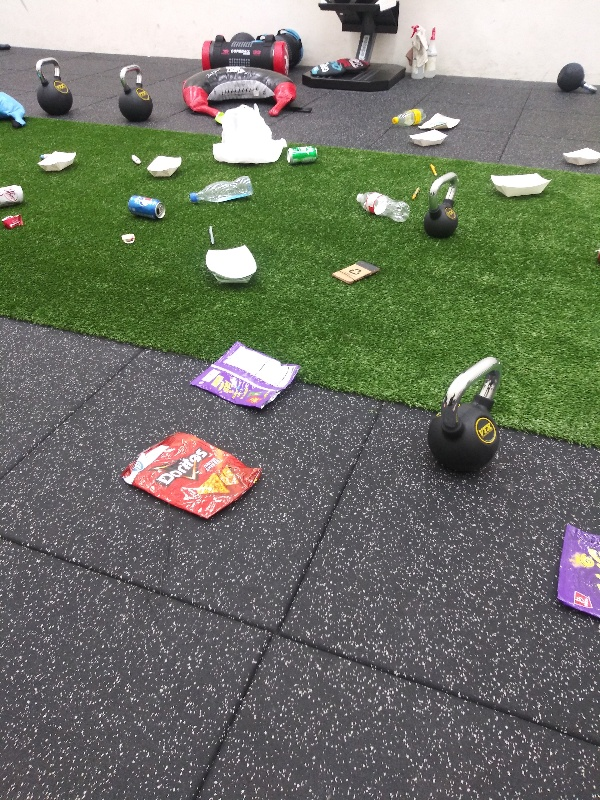bag: (115, 430, 267, 523), (186, 339, 305, 415), (554, 523, 600, 620), (416, 110, 463, 132)
bottle: (187, 174, 257, 211), (353, 191, 413, 228), (389, 107, 429, 126)
can: (124, 191, 171, 223), (1, 181, 28, 213), (285, 144, 322, 167)
plate: (205, 242, 262, 287), (486, 172, 553, 201), (37, 148, 81, 177), (147, 153, 186, 182), (559, 146, 600, 170), (408, 128, 452, 149)
